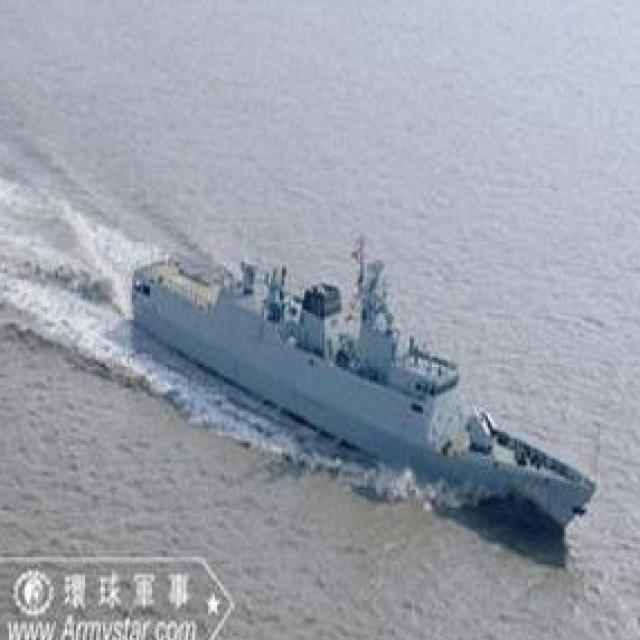navalvessels: (132, 212, 602, 530)
